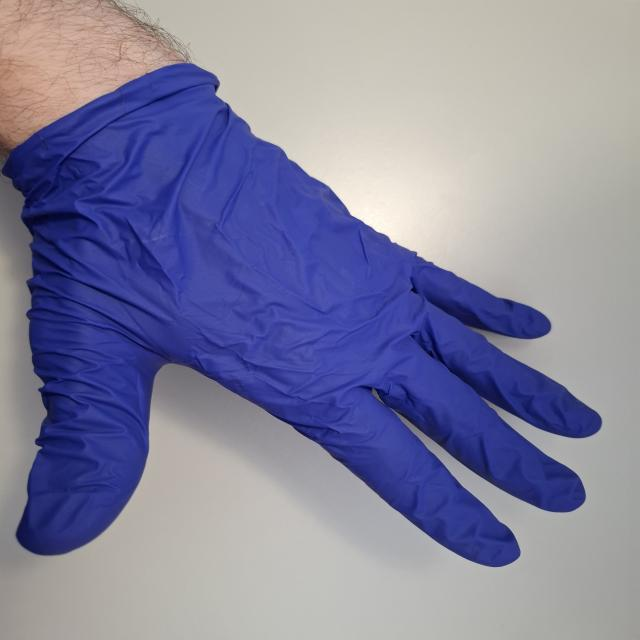glove_on: (2, 58, 606, 570)
